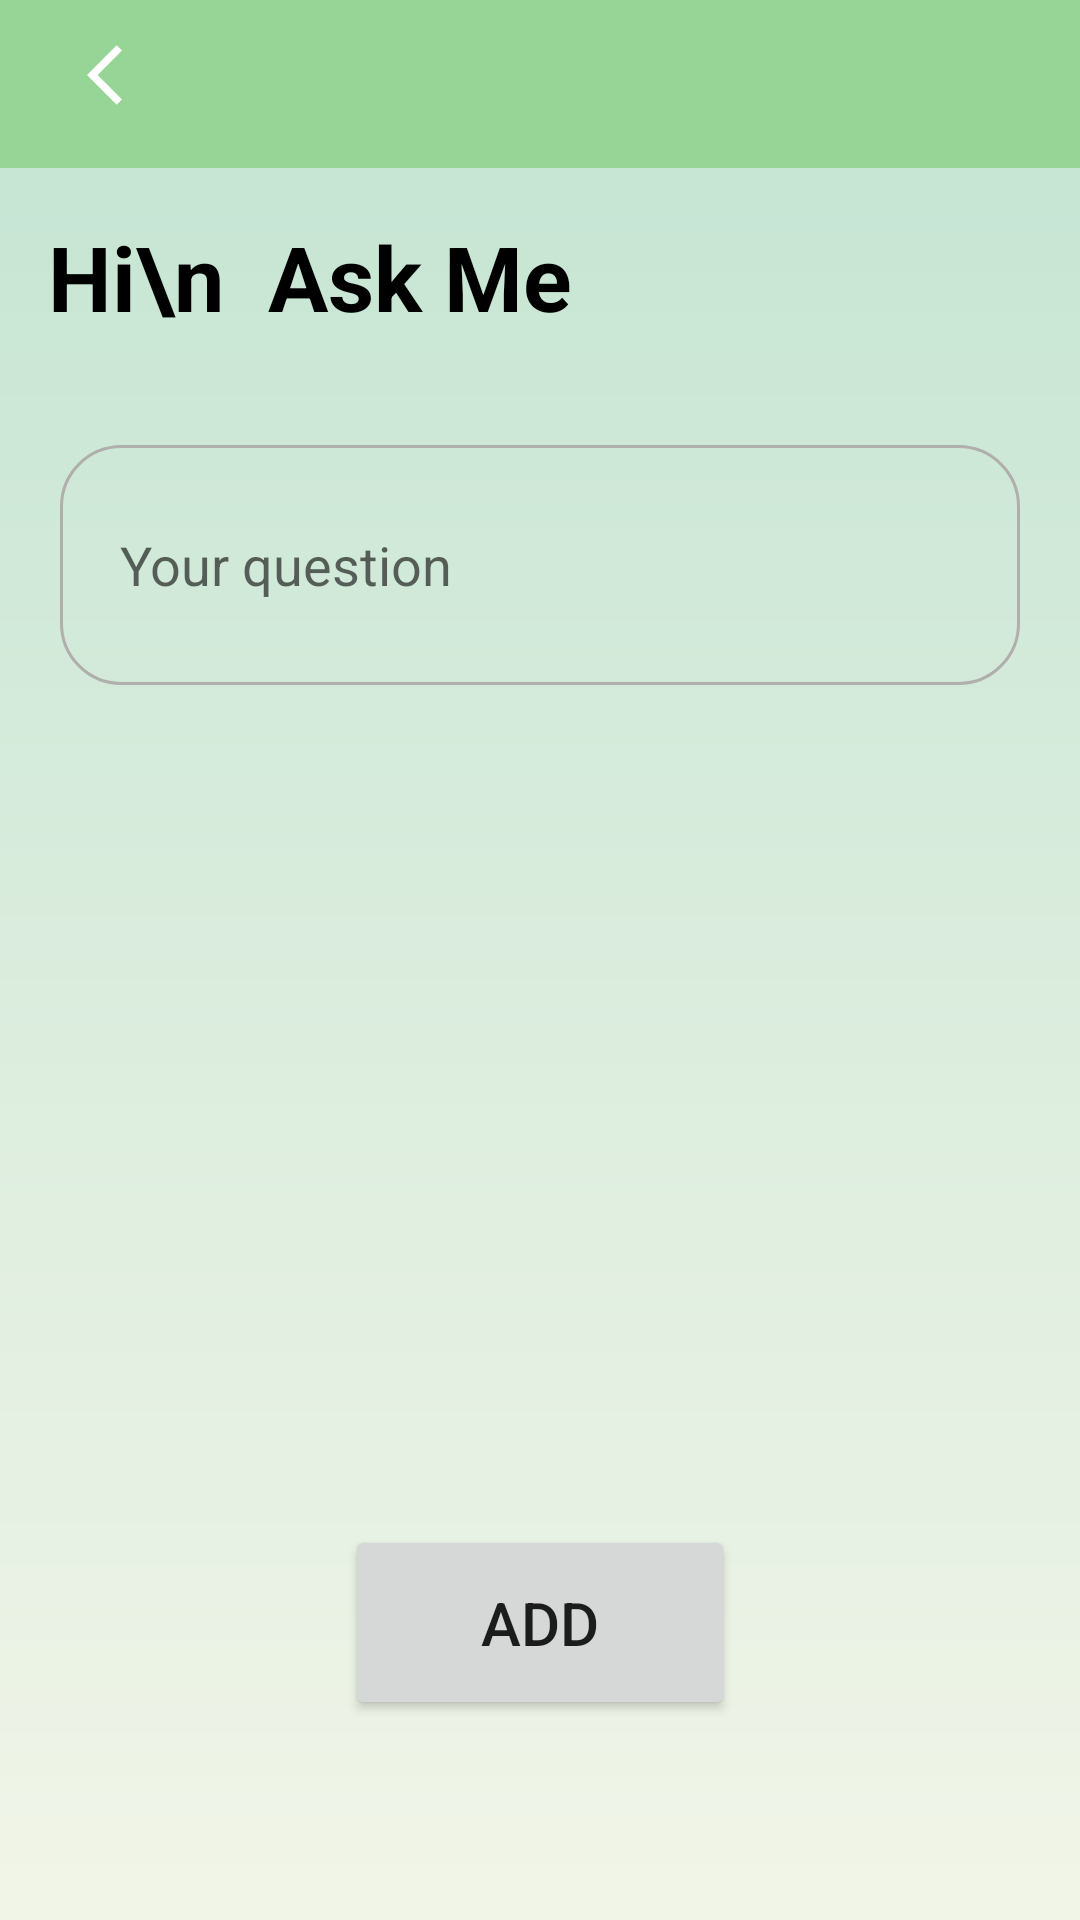

Named icons in this screenshot (1080x1920) and their bounding boxes, (x1, y1, x2, y2):
backbtn: (87, 45, 122, 105)
